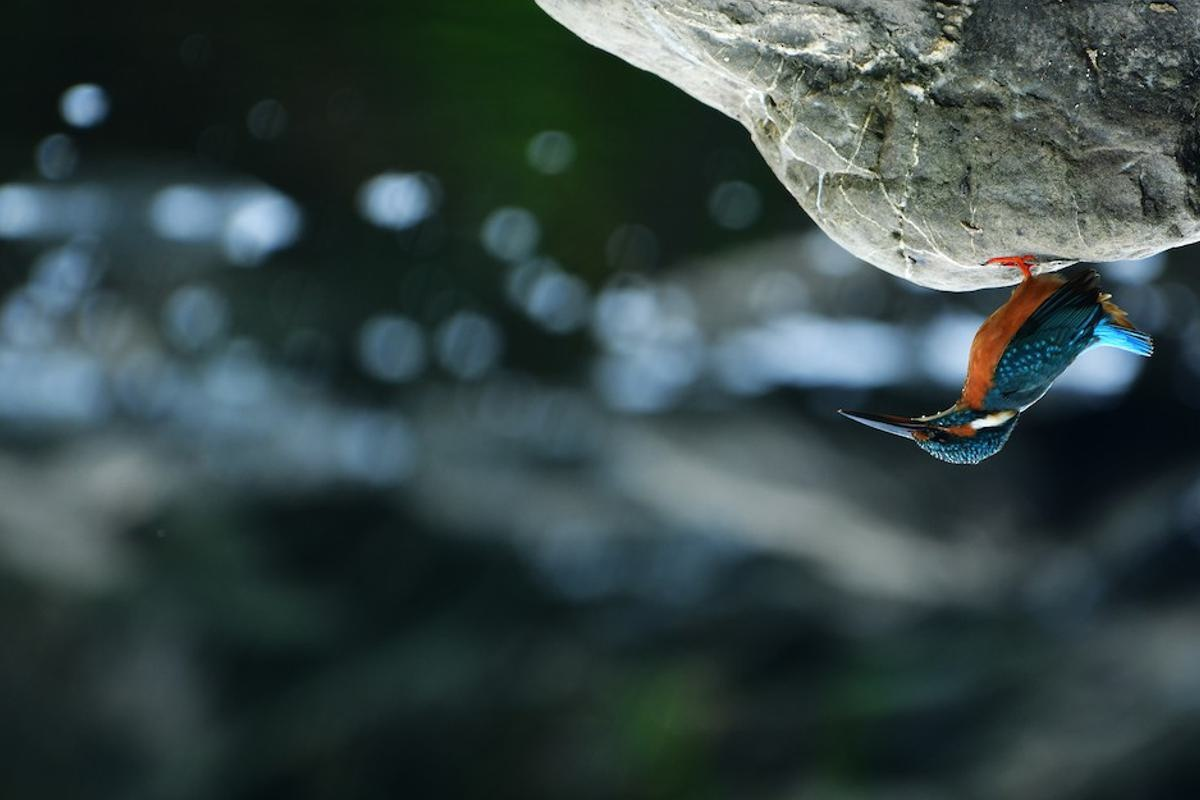kingfisher: (813, 254, 1159, 493)
